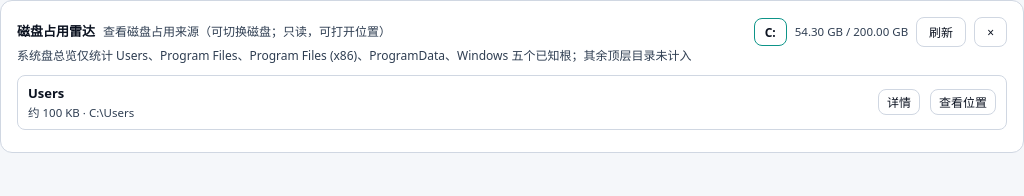
DiskRadarPanel › tells the user when a drill-down list is partial
Click the button "详情".
click(899, 102)  # box [878,89,920,115]
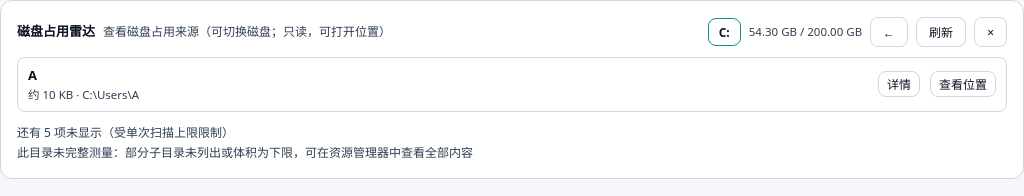
Expected: the text "此目录未完整测量：部分子目录未列出或体积为下限，可在资源管理器中查看全部内容" is shown, [17,144,473,161]
